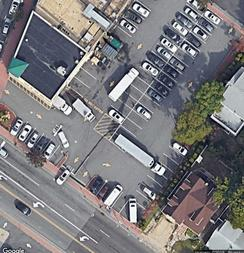parkingspot: (109, 7, 225, 154), (104, 0, 209, 126), (129, 138, 191, 211), (8, 114, 70, 168), (110, 0, 153, 46), (87, 176, 132, 215), (66, 58, 105, 98)
